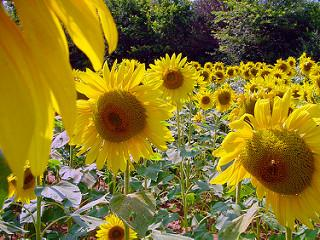sunflower: (0, 0, 116, 186), (211, 96, 320, 229), (63, 57, 175, 173), (150, 52, 196, 101), (95, 213, 139, 240), (214, 86, 233, 109), (194, 91, 215, 110), (276, 59, 291, 75), (312, 75, 320, 96), (303, 60, 315, 73), (214, 69, 226, 82)
